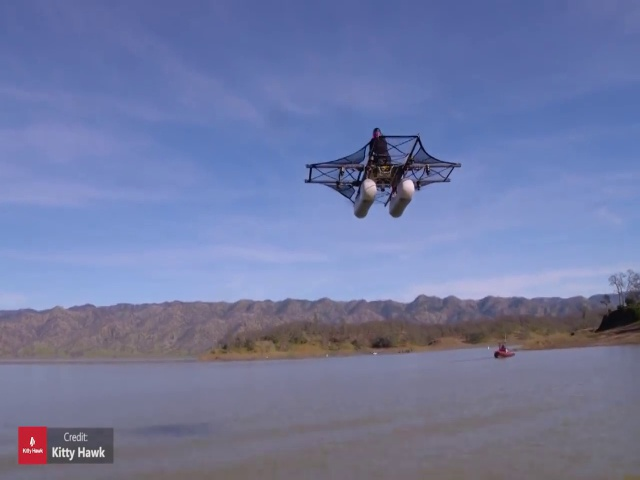drone: (302, 134, 463, 220)
